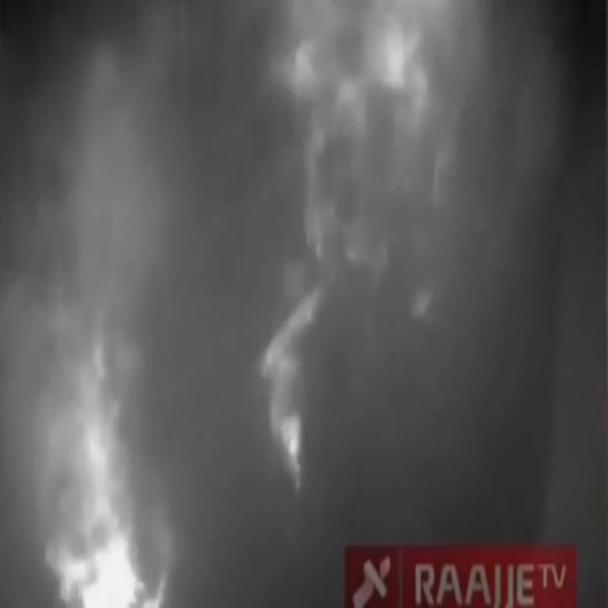smoke: (7, 9, 582, 606)
